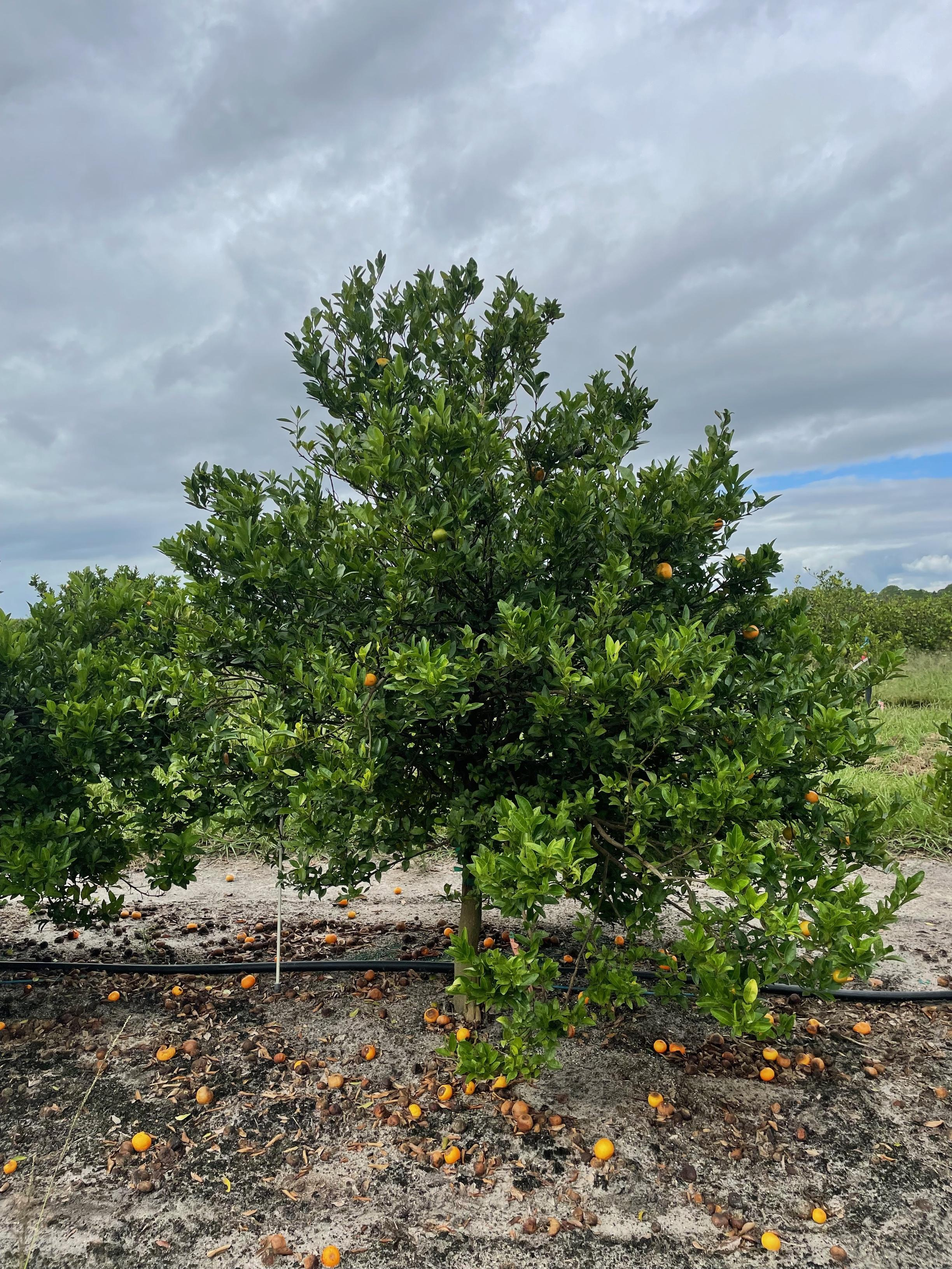fruit_on_ground: (653, 560, 675, 582), (656, 952, 678, 973), (526, 463, 547, 484), (796, 918, 816, 940), (360, 669, 380, 690), (740, 622, 761, 642), (429, 526, 450, 545), (830, 967, 850, 984), (373, 354, 392, 371), (781, 824, 798, 842), (730, 552, 749, 568), (707, 516, 724, 533), (803, 789, 821, 805), (760, 1010, 776, 1026), (572, 447, 584, 459)
fruit_on_tree: (592, 1136, 616, 1161), (266, 1231, 290, 1254), (320, 1244, 342, 1268), (760, 1229, 782, 1253), (154, 1041, 177, 1063), (193, 1084, 216, 1106), (131, 1129, 152, 1152), (828, 1243, 848, 1262), (443, 1144, 462, 1164), (810, 1205, 829, 1225), (709, 1211, 730, 1229), (445, 1081, 465, 1099), (491, 1073, 510, 1091), (292, 1059, 312, 1076), (427, 1150, 445, 1168), (405, 1101, 423, 1119), (181, 1037, 199, 1055), (453, 1025, 472, 1042), (509, 1098, 528, 1115), (436, 1082, 453, 1101), (852, 1019, 872, 1035), (423, 1004, 440, 1022), (761, 1044, 779, 1061), (516, 1114, 534, 1131), (360, 1043, 378, 1060), (646, 1088, 663, 1106), (385, 1111, 404, 1127), (2, 1156, 18, 1175), (810, 1055, 827, 1072), (758, 1065, 775, 1082), (371, 1103, 389, 1119), (658, 1101, 676, 1117), (794, 1052, 812, 1068), (327, 1072, 345, 1088), (668, 1040, 686, 1056), (708, 1031, 727, 1046), (238, 974, 257, 989), (933, 1084, 950, 1100), (935, 973, 952, 989), (652, 1037, 668, 1053), (863, 1063, 880, 1078), (719, 1048, 736, 1063), (775, 1053, 792, 1068), (366, 986, 383, 1001), (498, 1100, 514, 1115), (546, 1113, 563, 1127), (576, 989, 591, 1004), (66, 926, 81, 941), (436, 1012, 452, 1026), (105, 989, 121, 1003), (462, 1080, 477, 1094), (315, 1077, 329, 1091), (272, 1051, 287, 1064), (362, 968, 377, 981), (806, 1017, 821, 1030), (323, 931, 338, 944), (499, 927, 513, 940), (442, 925, 455, 939), (117, 907, 131, 920), (170, 984, 184, 997), (394, 919, 408, 932), (354, 976, 369, 988), (241, 933, 256, 945), (375, 1007, 388, 1020), (359, 1076, 372, 1089), (613, 933, 626, 946), (482, 935, 495, 948), (561, 953, 575, 965), (336, 895, 349, 907), (130, 909, 143, 921), (806, 1024, 818, 1036), (236, 928, 249, 939), (223, 872, 236, 883), (185, 920, 198, 931), (153, 939, 167, 949), (548, 933, 560, 944), (254, 921, 266, 932), (0, 1018, 9, 1032), (234, 915, 246, 925), (392, 885, 404, 895), (347, 908, 358, 918)
